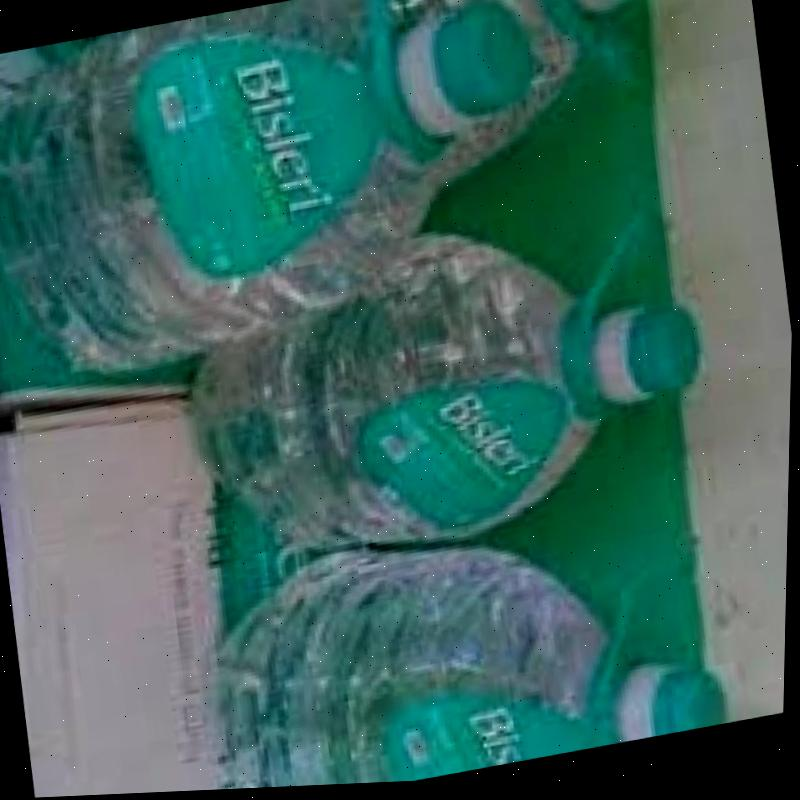botella: (171, 180, 726, 587), (0, 0, 562, 400), (196, 502, 744, 793), (409, 0, 696, 192)
